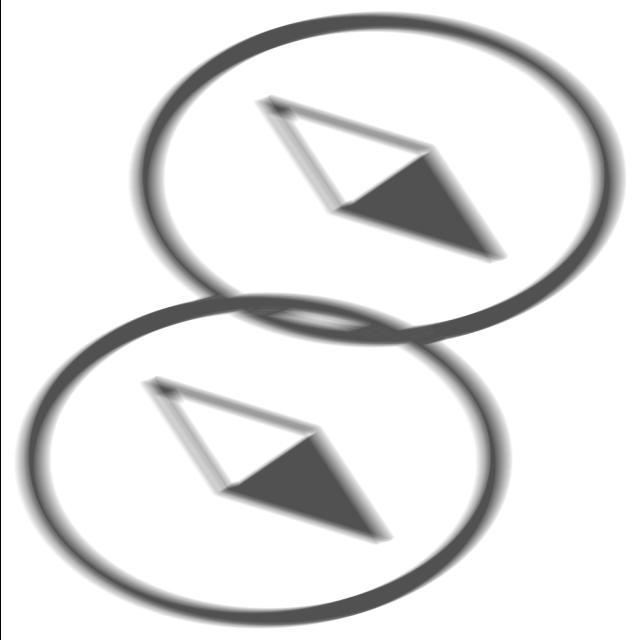compass: (112, 5, 635, 365), (6, 275, 520, 633)
